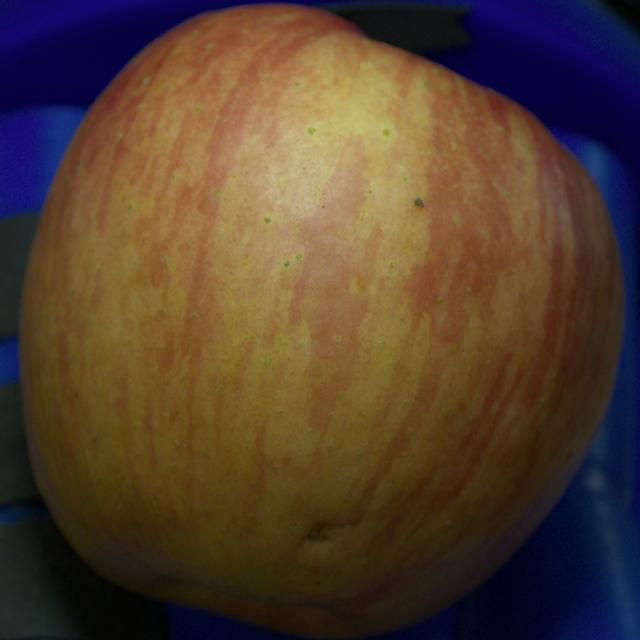apple: (19, 5, 623, 639)
scratch: (305, 522, 357, 542)
